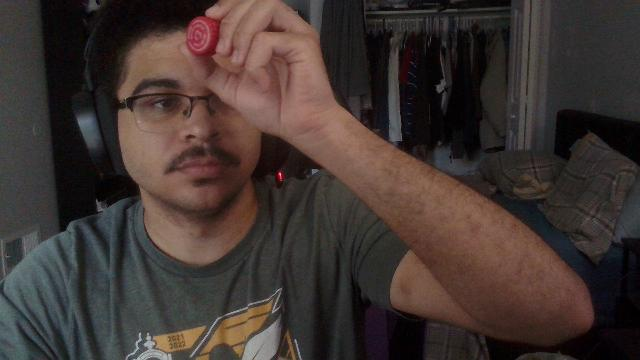cap: (187, 17, 220, 55)
